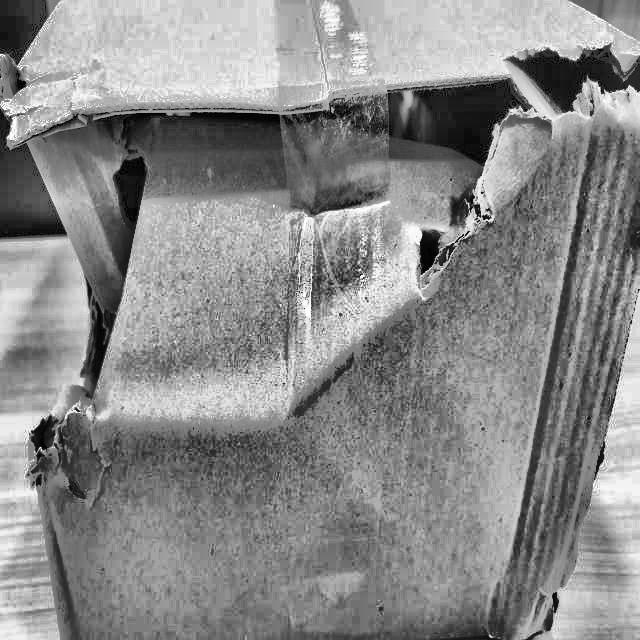box: (5, 0, 639, 639)
hole: (5, 49, 173, 479), (505, 38, 639, 128), (414, 214, 456, 284)
